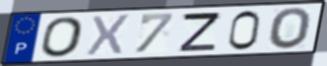0: (227, 9, 263, 51)
7: (135, 12, 175, 56)
O: (268, 6, 314, 51), (40, 15, 87, 59)
X: (84, 13, 133, 57)
Z: (178, 12, 223, 53)
